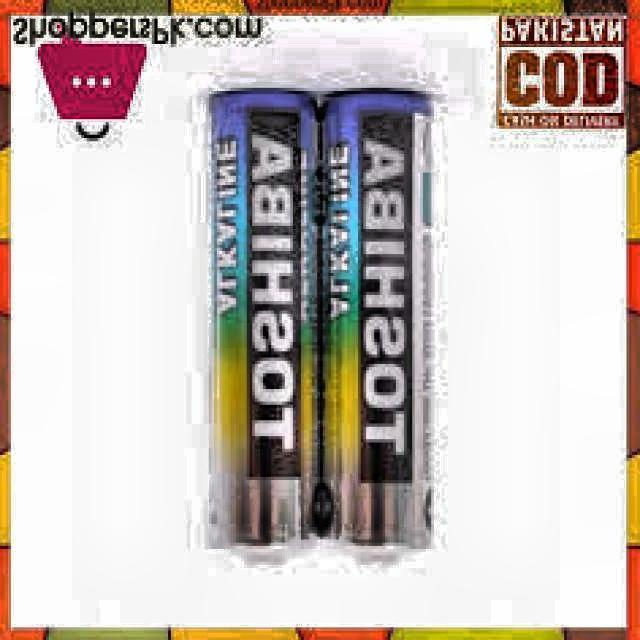battery: (207, 89, 318, 567), (314, 97, 428, 562)
